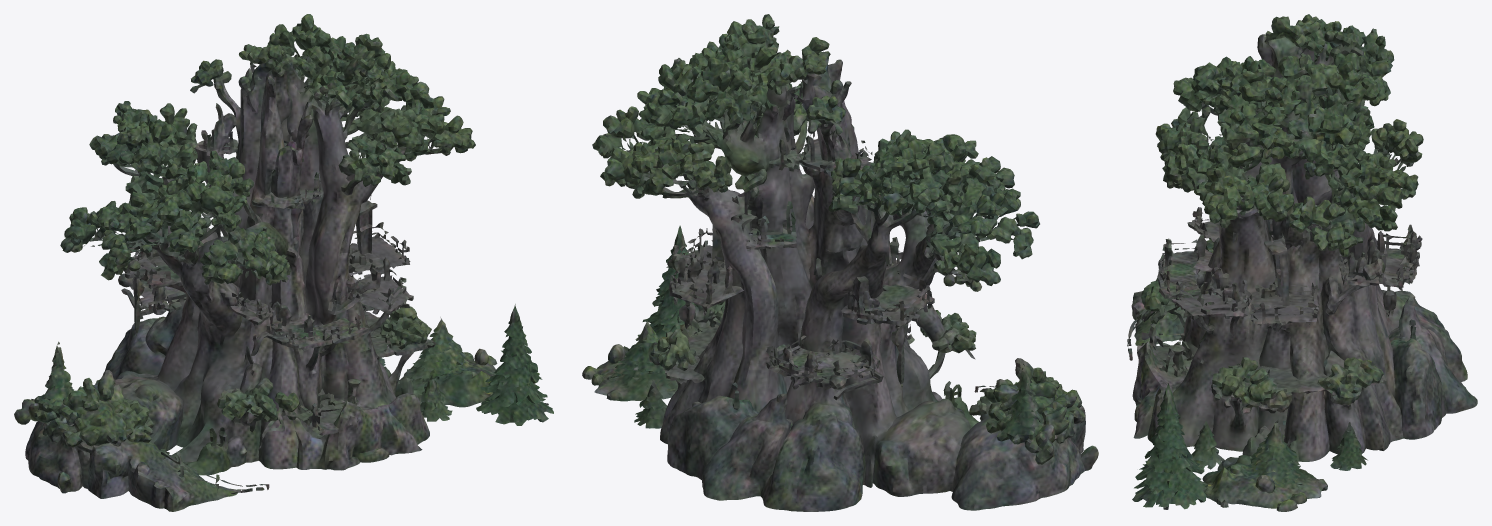
File: stormheart_a.glb
3 views of the same model, side by side, from view 1: azimuth 30°, elevation 25°; view 2: azimuth 150°, elevation 25°; view 3: azimuth 270°, elevation 25° (orthographic). The views are drawn at different scales.
Bounding box in the file's own units: 1.89 × 1.45 × 1.2.
1 material, 1 textured.
